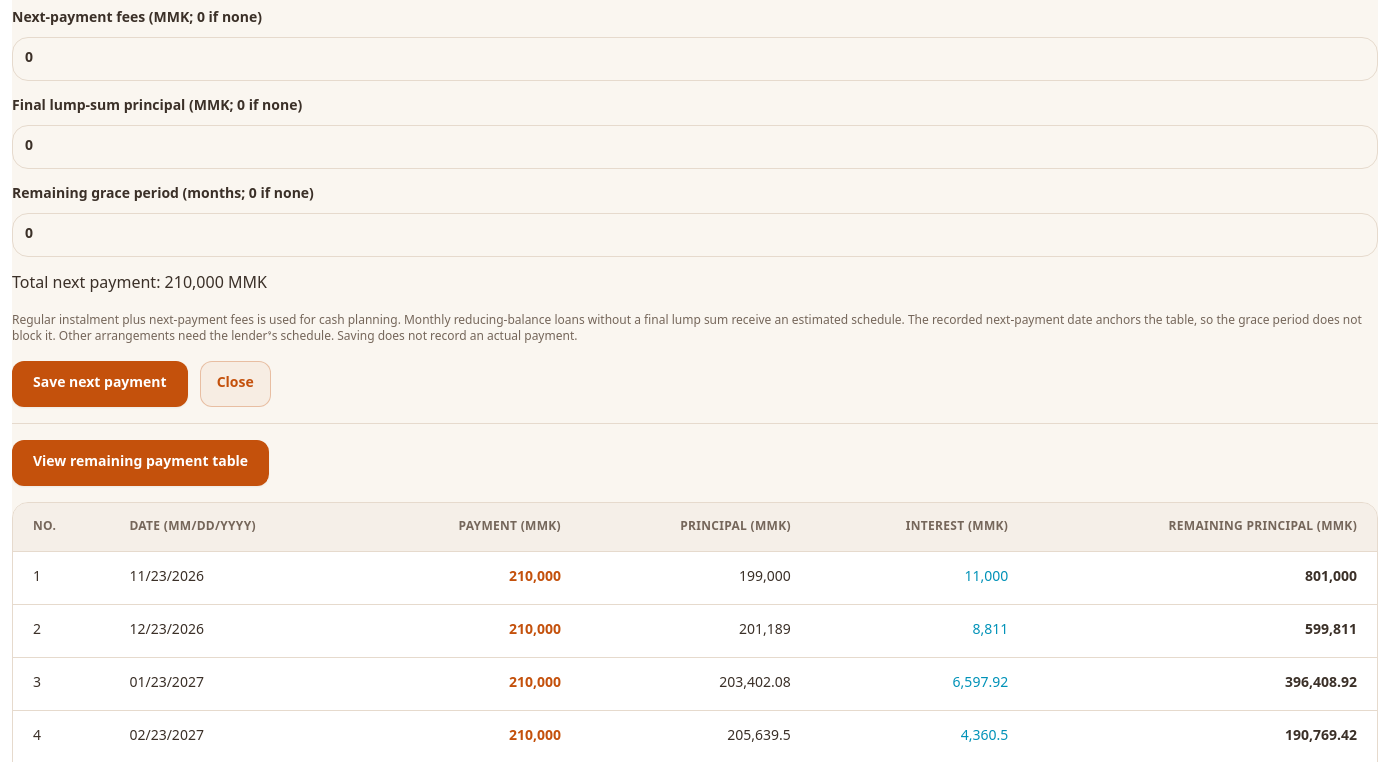
Scenario: accepts decimal-normalized rates without a restart warning
The image size is (1390, 762).
(page scrolled)
Click the button "Save next payment".
click(100, 384)  # box top-left (12, 361), bottom-right (188, 407)
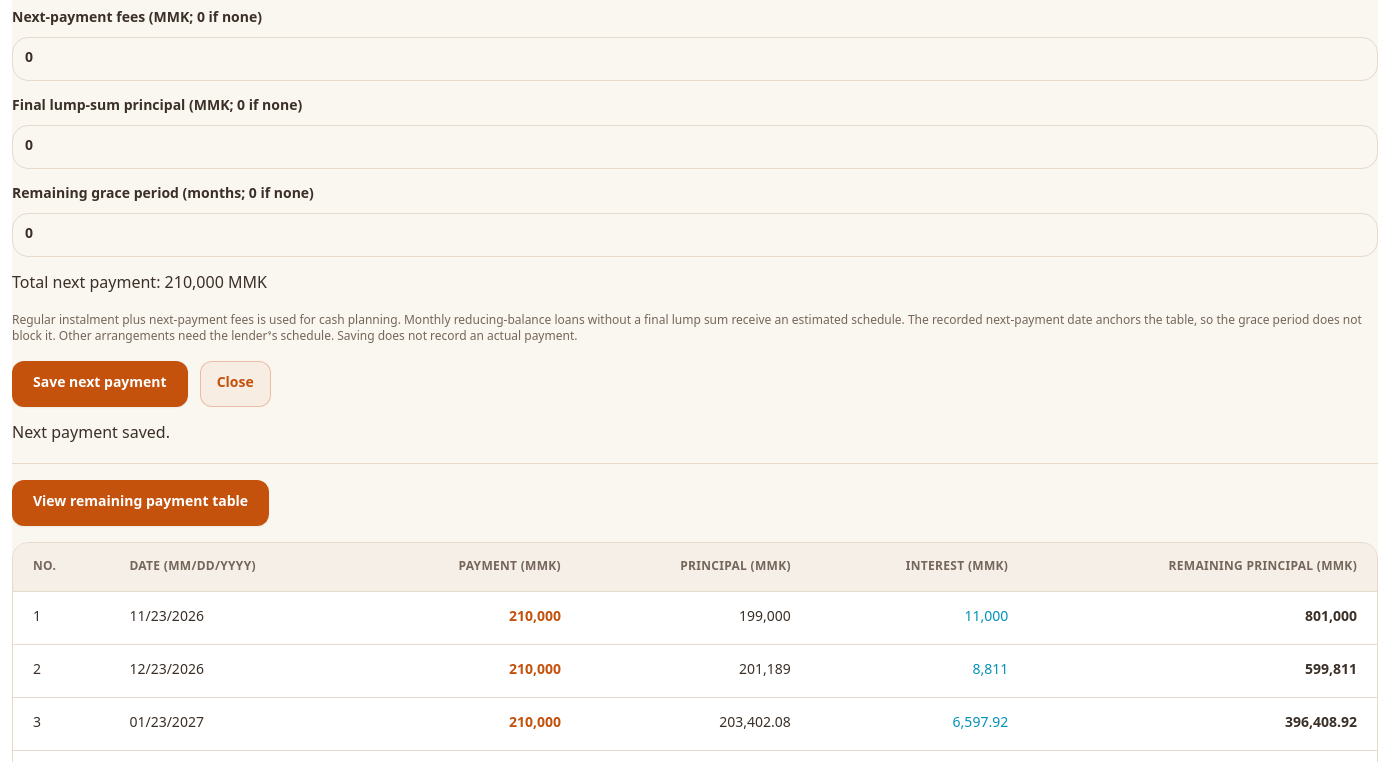
Check: the text "Next payment saved." is shown, box top-left (12, 417), bottom-right (170, 452)
